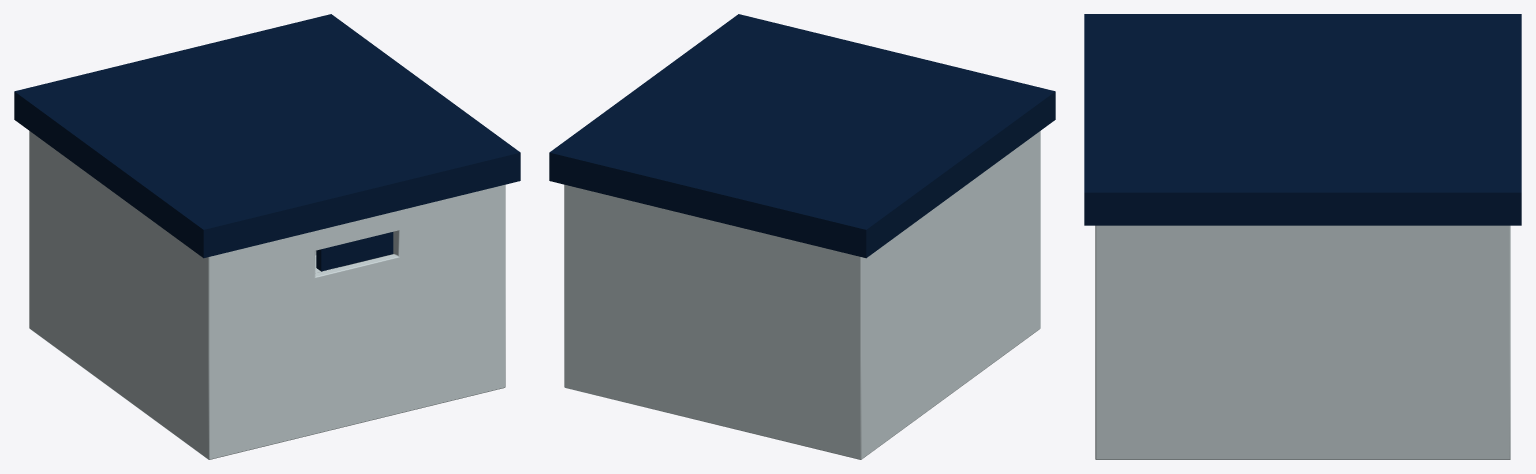
The model's file is SM_Env_DocumentBox.fbx.
3 renders of one model, left to right at view 1: azimuth 30°, elevation 25°; view 2: azimuth 150°, elevation 25°; view 3: azimuth 270°, elevation 25°, orthographic. The views are drawn at different scales.
Parts seen in each view (by area): view 1: DocumentBox; view 2: DocumentBox; view 3: DocumentBox.
Part boxes in pixels (x1=…): DocumentBox: x1=14, y1=14, x2=520, y2=459; DocumentBox: x1=549, y1=14, x2=1055, y2=459; DocumentBox: x1=1084, y1=14, x2=1521, y2=459.
Bounding box in the file's own units: 0.32 × 0.2282 × 0.331.
